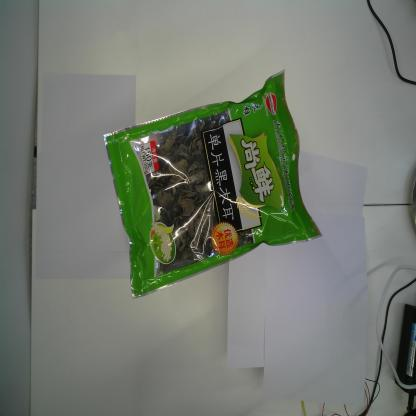Dried Food: (103, 69, 322, 299)
